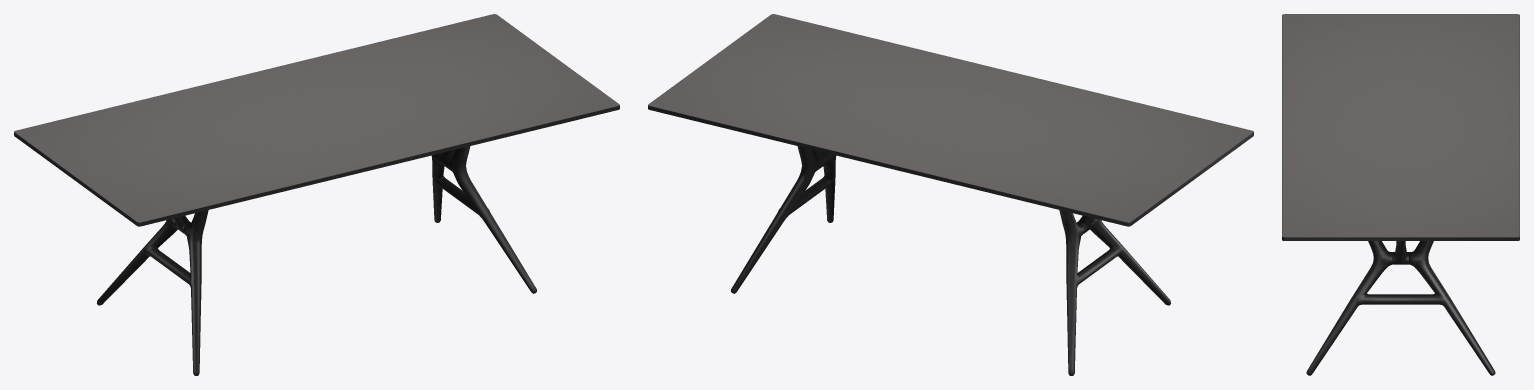
The picture shows the model from 3 angles, left to right: view 1: azimuth 30°, elevation 25°; view 2: azimuth 150°, elevation 25°; view 3: azimuth 270°, elevation 25°; orthographic projection. The views are drawn at different scales.
Visible parts, largest first — view 1: table; view 2: table; view 3: table.
Boxes of the visible parts, x1,y1,x2,y2 form: table: (14,14,619,375); table: (648,14,1253,375); table: (1282,14,1519,375).
Size of the model in its own units: 2 by 0.7179 by 0.9.
Materials: 1 (1 with a texture image).
